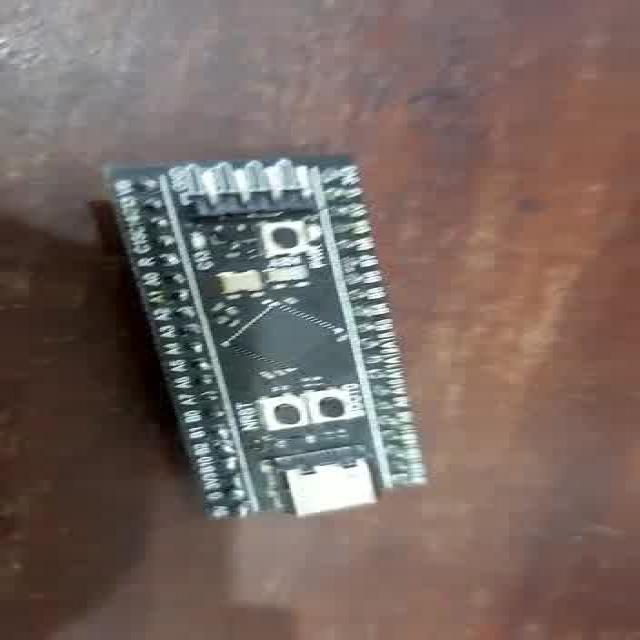stm32: (100, 159, 445, 527)
